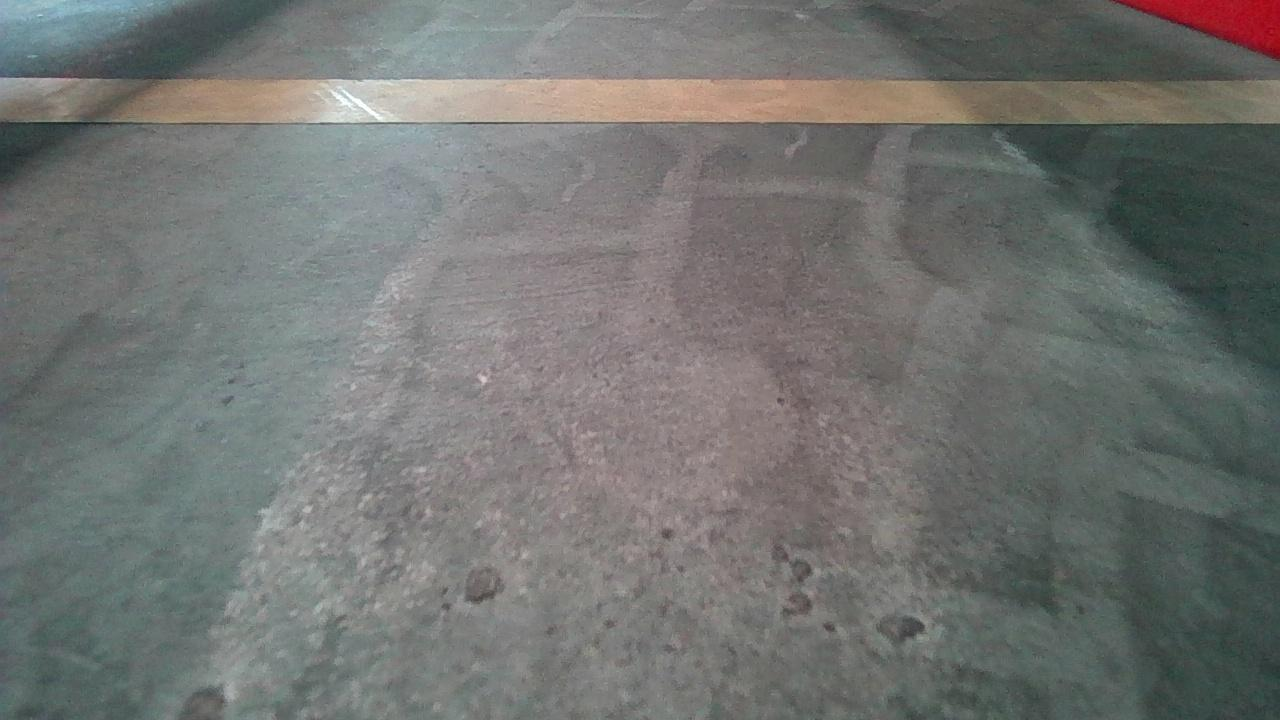yellow_line: (15, 66, 1253, 129)
